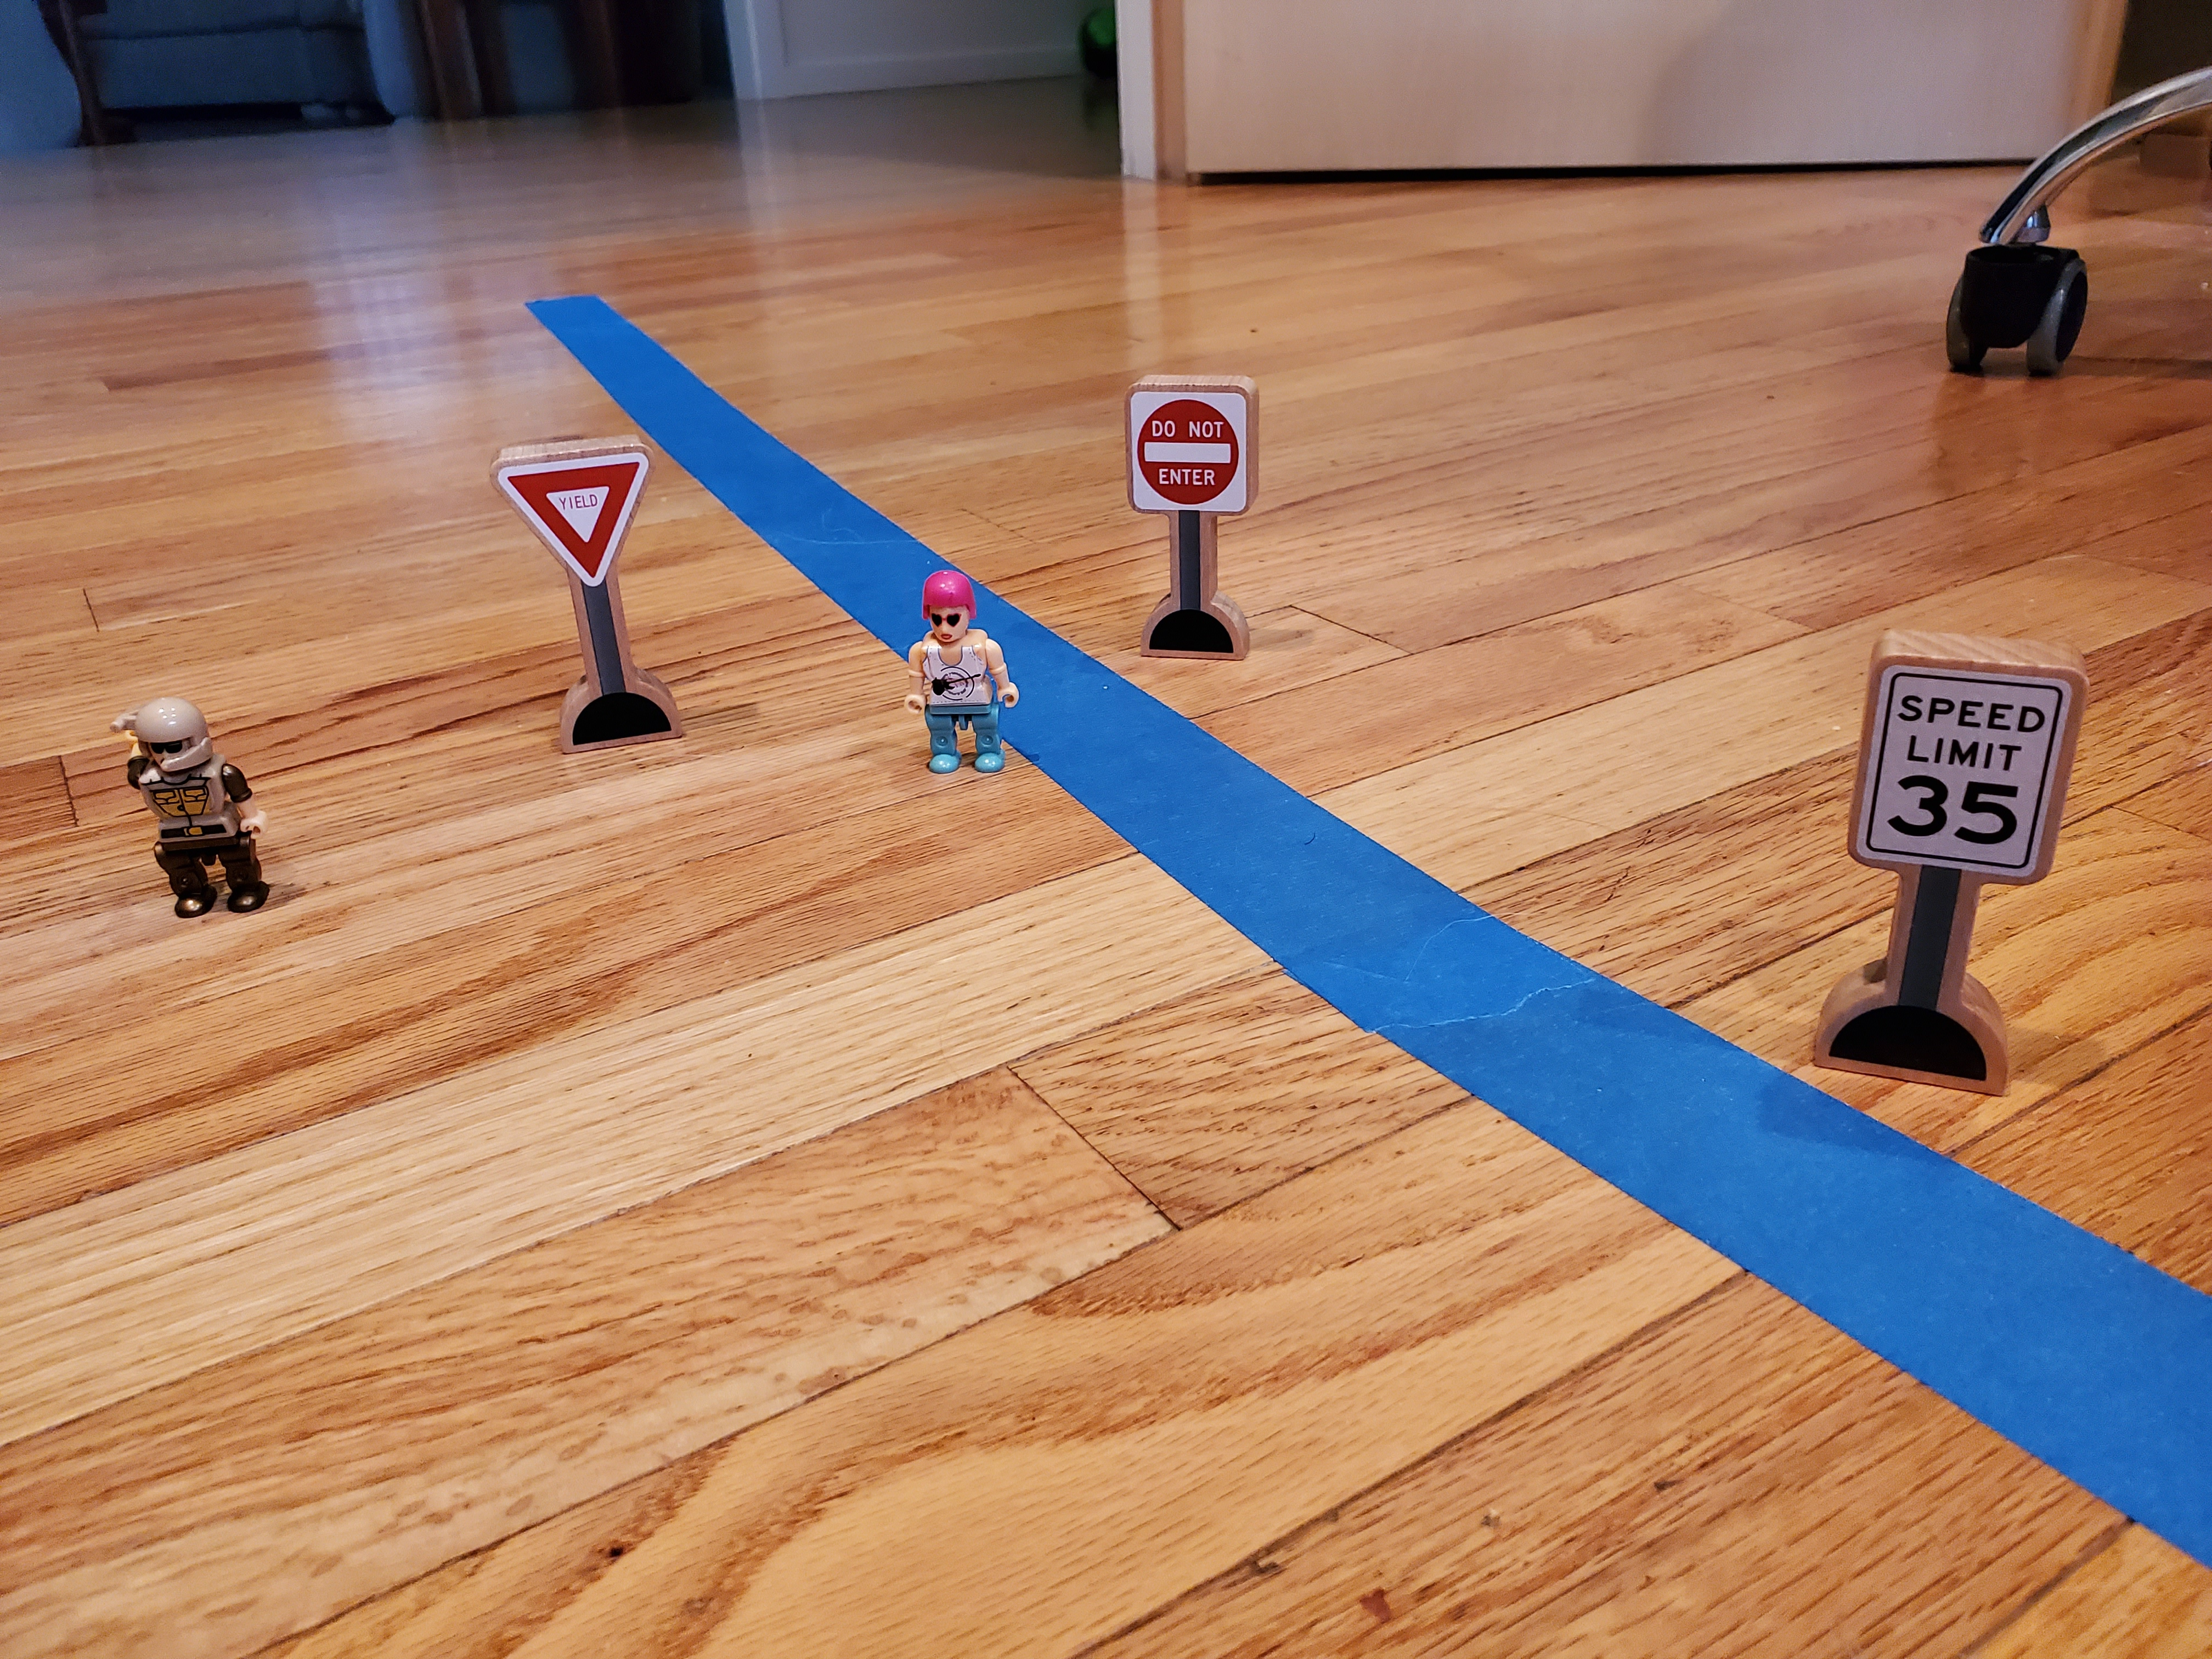Do Not Enter: (1117, 369, 1271, 517)
Speed Limit 35: (1850, 613, 2092, 896)
Yield Sign: (486, 436, 664, 591)
person: (105, 698, 279, 922), (891, 564, 1042, 777)
